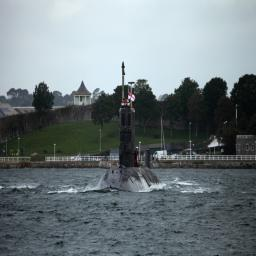submarine: (89, 54, 173, 195)
